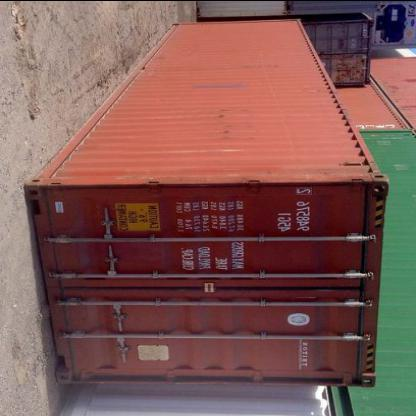Damage: (70, 190, 110, 240), (219, 106, 263, 144), (182, 76, 249, 93), (301, 79, 334, 104), (238, 55, 283, 71), (149, 62, 165, 86)
